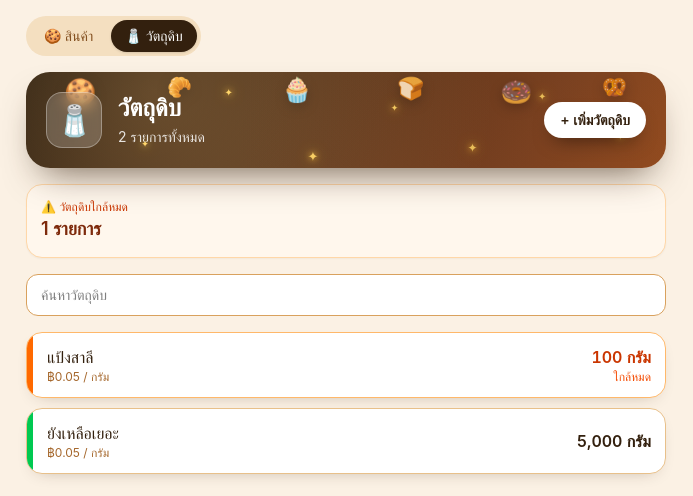
IngredientsPage › กดแบนเนอร์เตือนใกล้หมด กรองให้เหลือเฉพาะที่ใกล้หมด
Click the text "⚠️ วัตถุดิบใกล้หมด" at [84, 206], box [41,199,128,214]
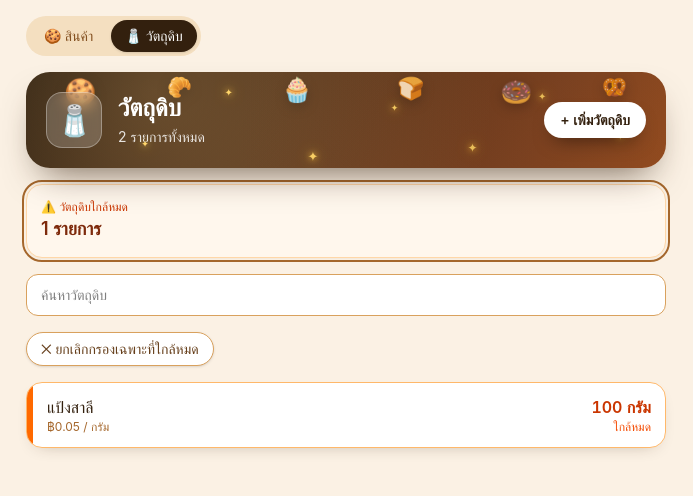
Expected: the text "แป้งสาลี" is shown, [47,397,94,417]
Expected: the link "ยังเหลือเยอะ" is gone
